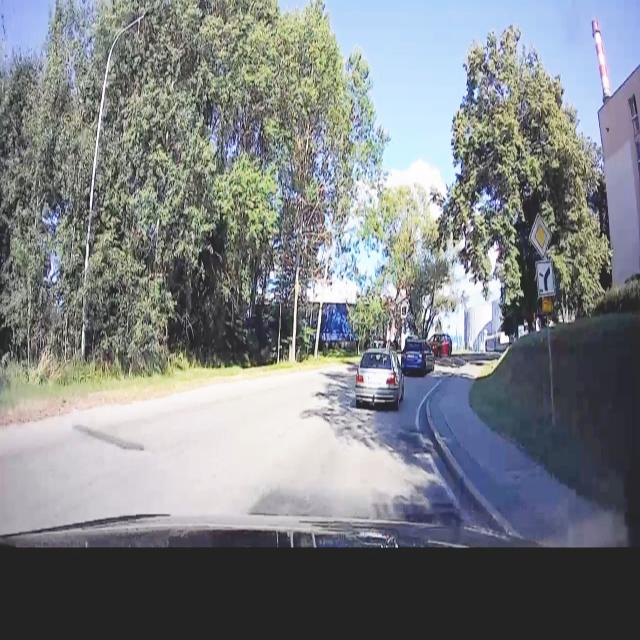Priority road: (528, 210, 554, 261)
